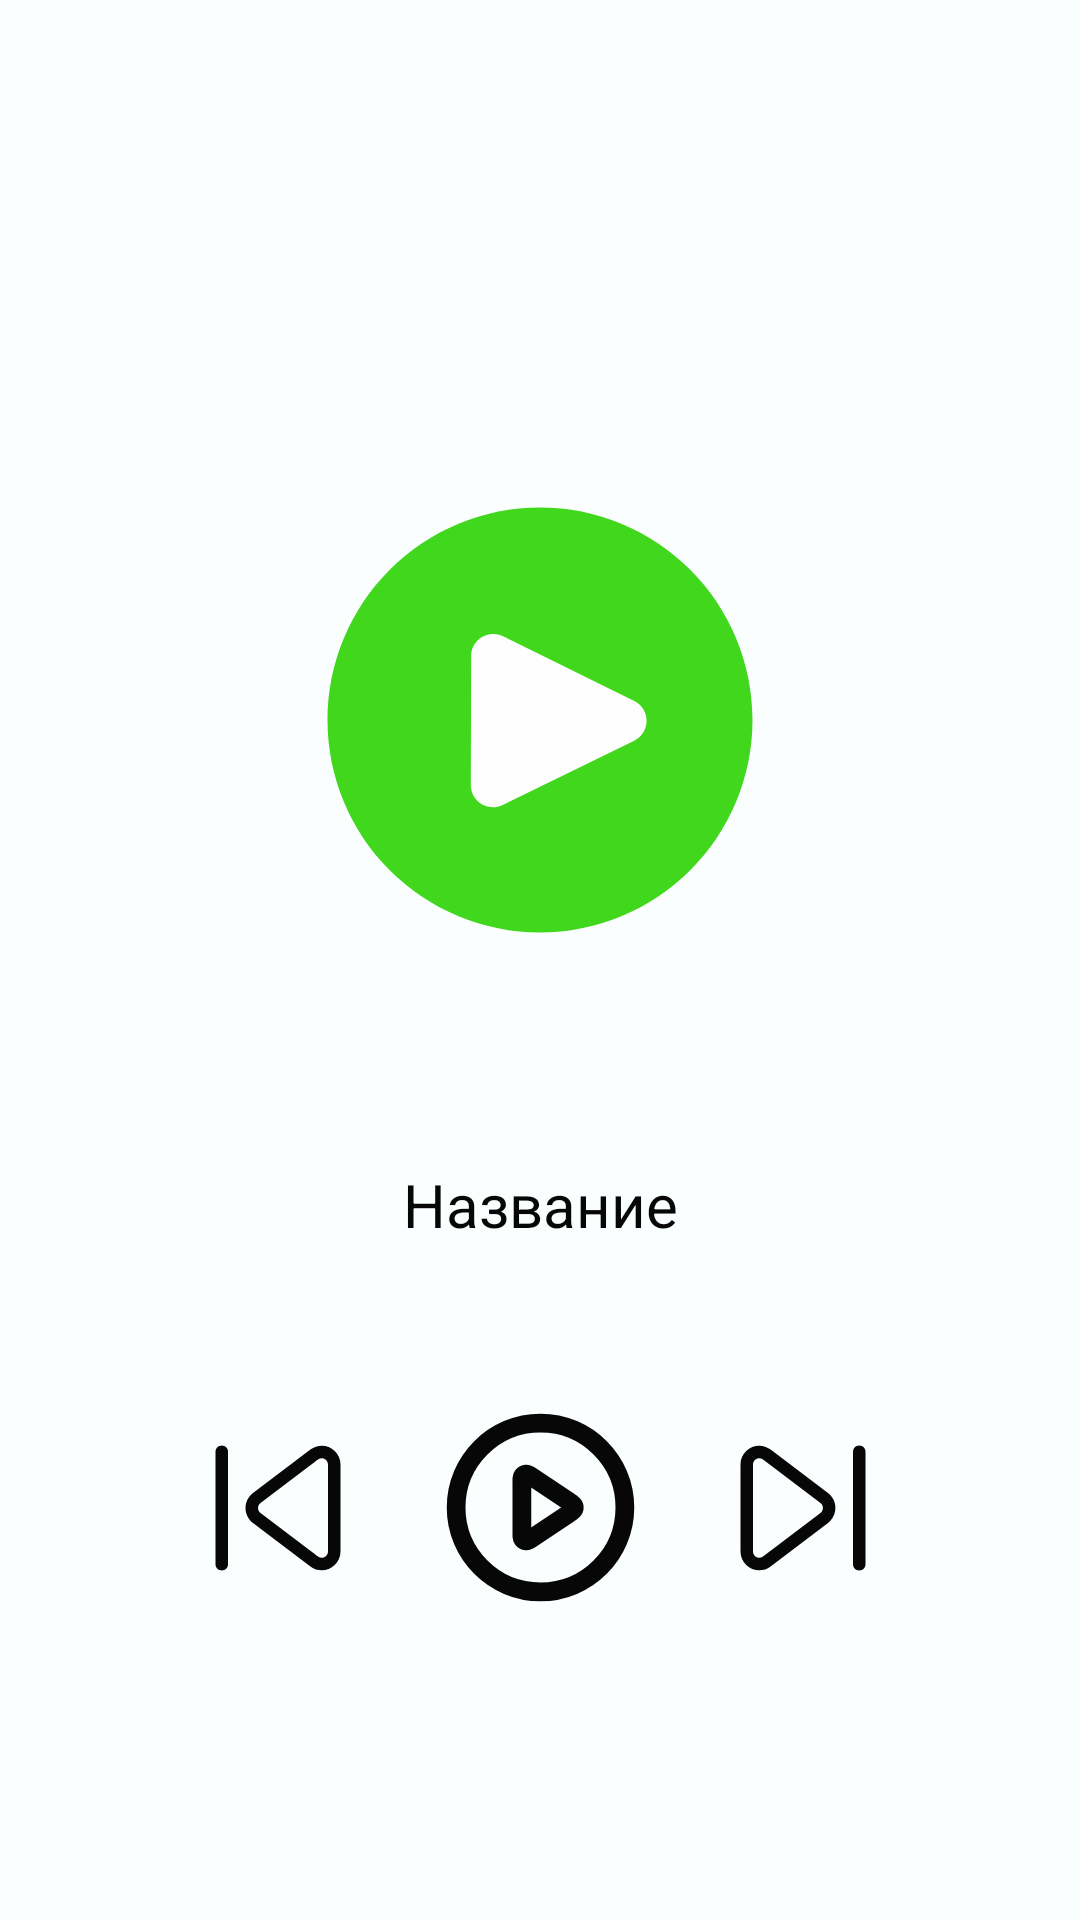

Screen size 1080 × 1920. Icon name, then its box in pixels as {"x1": x1, "y1": y1, "x2": x2, "y2": y2}:
next: {"x1": 740, "y1": 1445, "x2": 866, "y2": 1571}
play: {"x1": 446, "y1": 1413, "x2": 635, "y2": 1602}
prev: {"x1": 215, "y1": 1445, "x2": 341, "y2": 1571}
